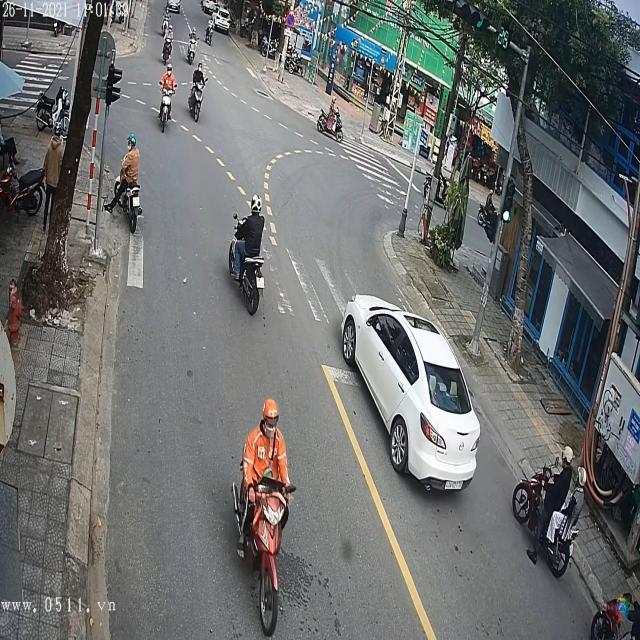car: (338, 292, 480, 494), (166, 0, 182, 12)
motorcycle: (233, 476, 294, 635), (514, 461, 577, 583), (228, 214, 266, 318), (112, 159, 142, 236), (319, 110, 345, 140), (189, 80, 206, 121), (160, 91, 175, 122)
